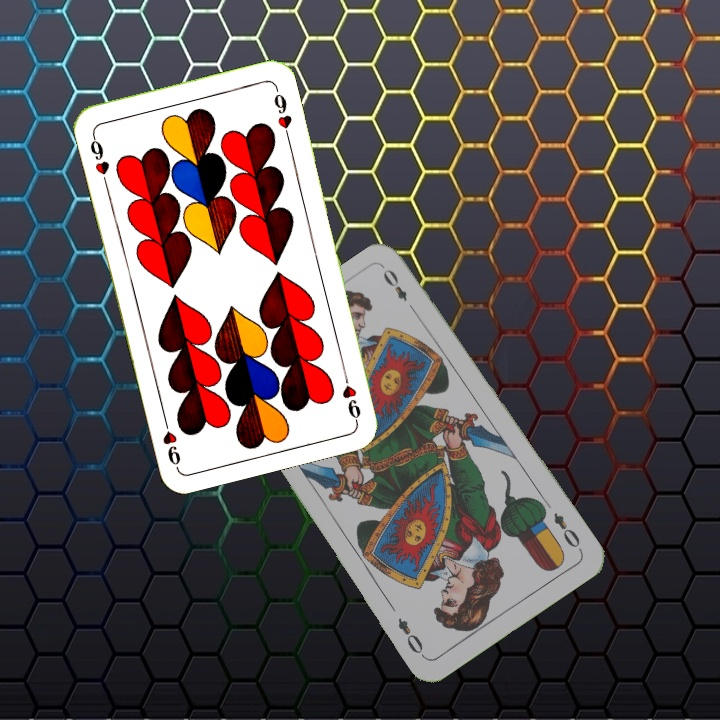EO: (549, 508, 585, 554)
H9: (338, 365, 364, 424), (86, 130, 112, 188)
